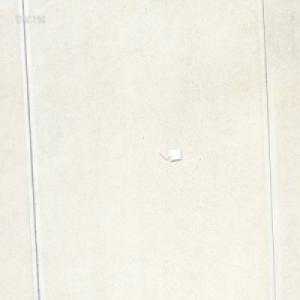LuggageTag: (156, 146, 181, 163)
